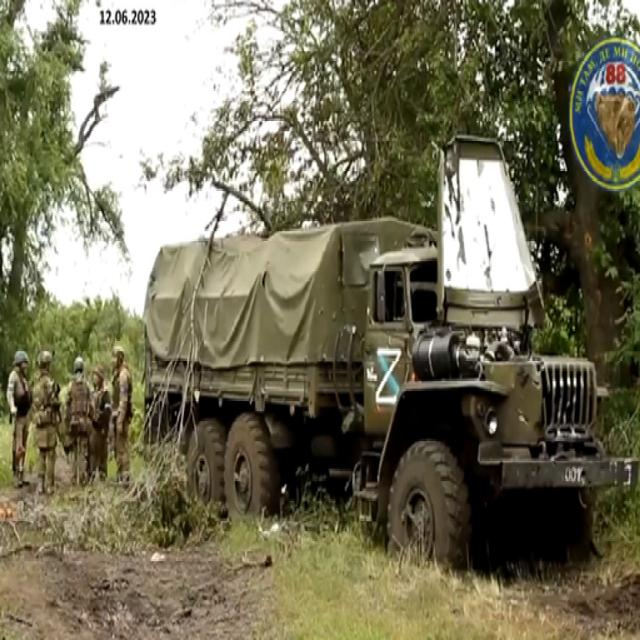TRUCK: (139, 200, 635, 584)
